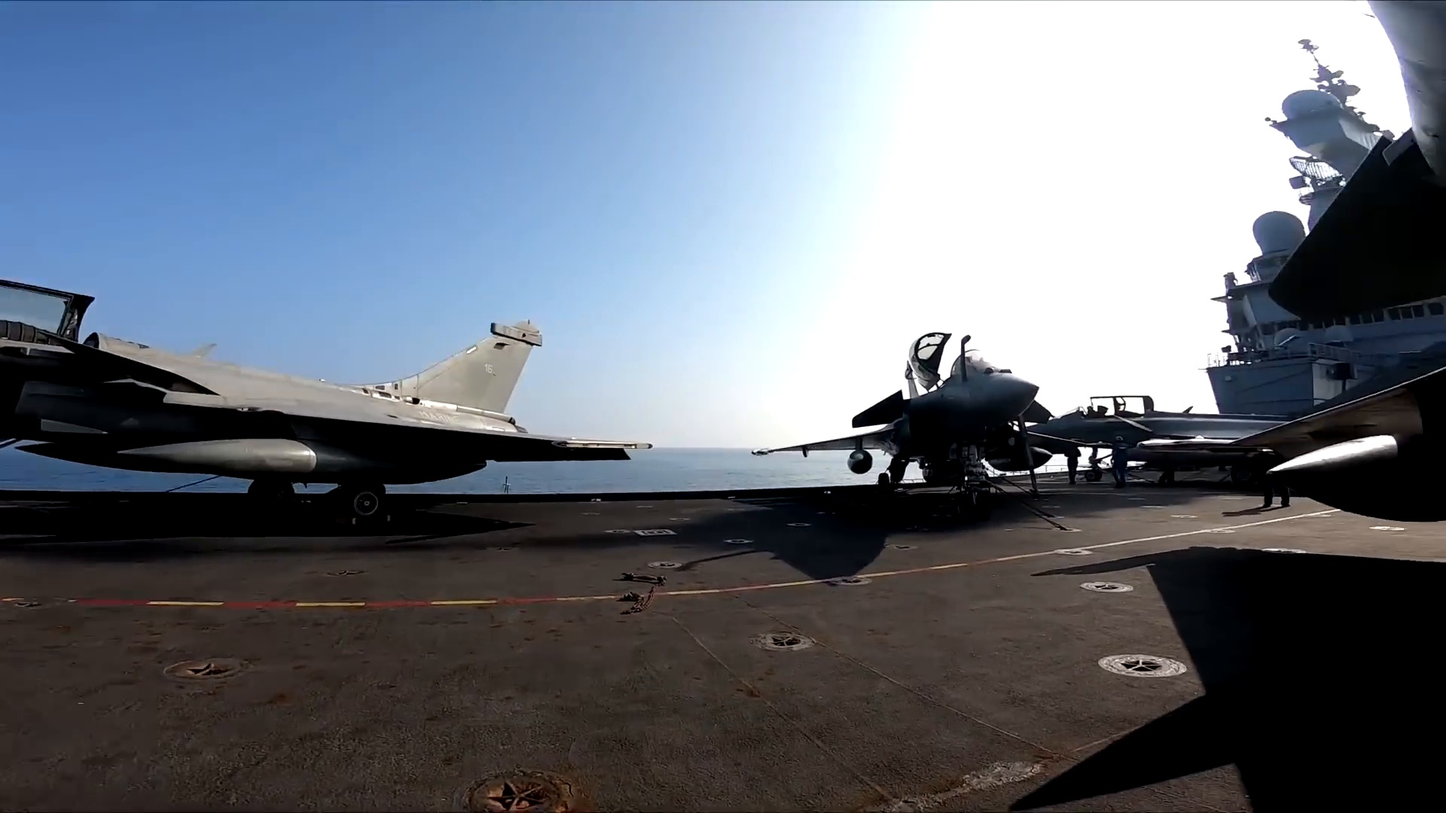Rafale: (0, 283, 652, 525), (753, 331, 1115, 502), (1025, 387, 1316, 487)
